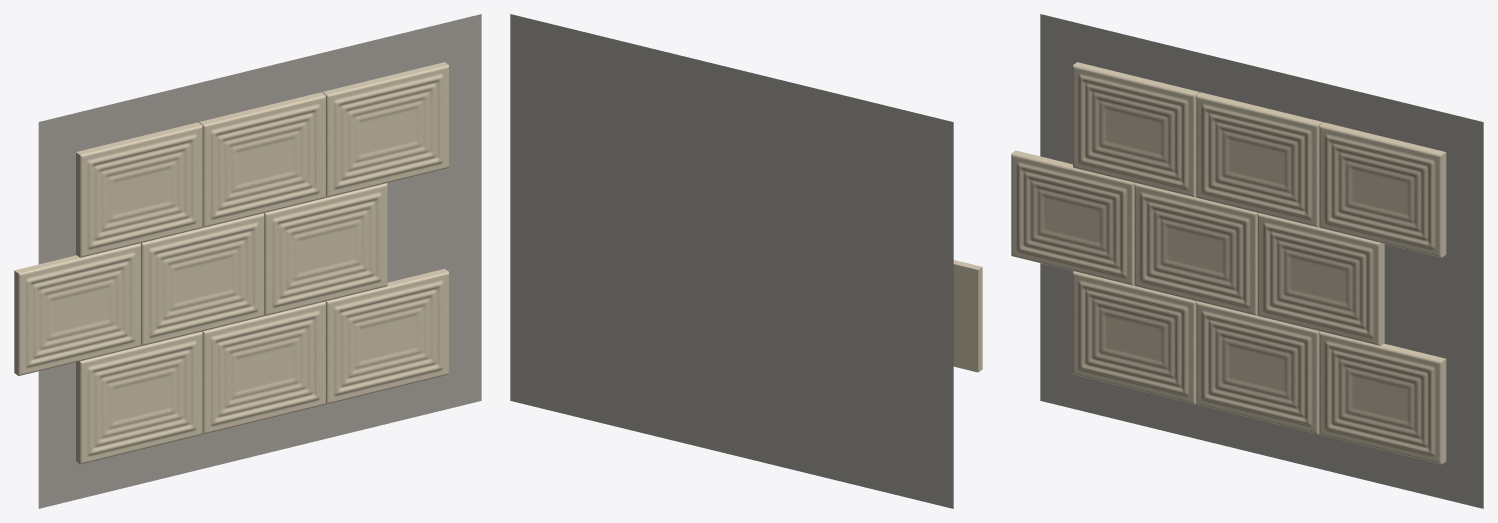
The model's file is terilgan.glb.
The picture shows the model from 3 angles, left to right: view 1: azimuth 30°, elevation 25°; view 2: azimuth 150°, elevation 25°; view 3: azimuth 330°, elevation 25°; orthographic projection.
Visible parts, largest first — view 1: Plane, t2_0, t1_0, t2_1, t2_2, t0_0, t0_2, t1_1, t0_1, t1_2; view 2: Plane, t1_0; view 3: Plane, t2_2, t0_2, t2_1, t2_0, t1_2, t1_0, t1_1, t0_0, t0_1.
Part boxes in pixels (box(x1,y1,x2,y2)): Plane: box(38, 14, 481, 508); t2_0: box(76, 122, 202, 257); t1_0: box(14, 243, 140, 375); t2_1: box(199, 92, 325, 227); t2_2: box(322, 62, 448, 197); t0_0: box(76, 331, 202, 464); t0_2: box(325, 268, 448, 404); t1_1: box(140, 213, 264, 345); t0_1: box(202, 301, 325, 434); t1_2: box(264, 183, 387, 315); Plane: box(510, 14, 953, 508); t1_0: box(953, 260, 982, 372); Plane: box(1040, 14, 1483, 508); t2_2: box(1319, 122, 1446, 257); t0_2: box(1319, 331, 1446, 464); t2_1: box(1196, 92, 1322, 227); t2_0: box(1073, 62, 1199, 197); t1_2: box(1257, 213, 1384, 345); t1_0: box(1011, 150, 1134, 285); t1_1: box(1134, 183, 1258, 315); t0_0: box(1073, 271, 1196, 404); t0_1: box(1196, 301, 1319, 434).
Bounding box in the file's own units: 1.91 × 1.51 × 0.0418.
